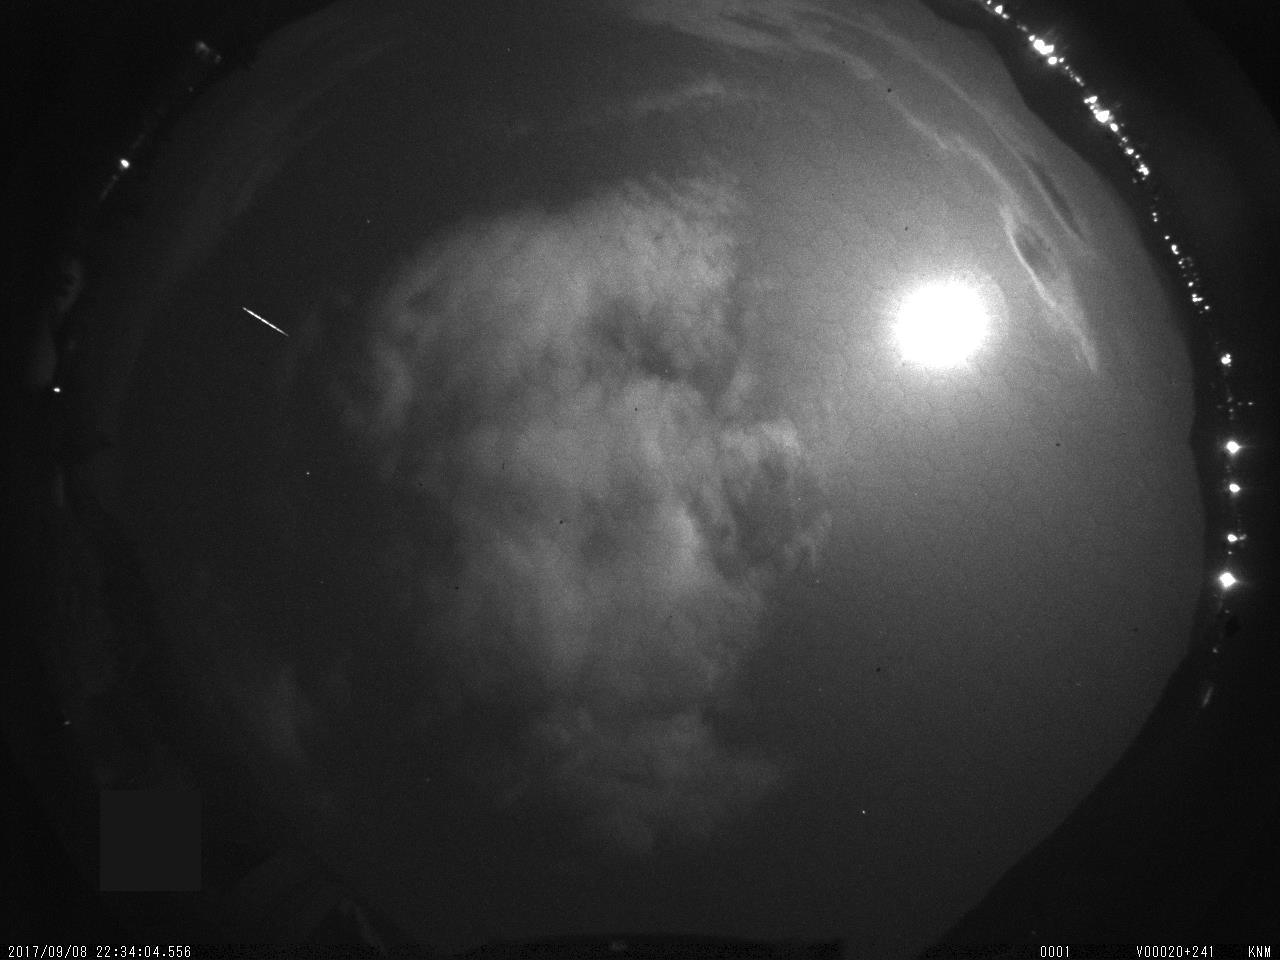meteor: (228, 297, 304, 355)
